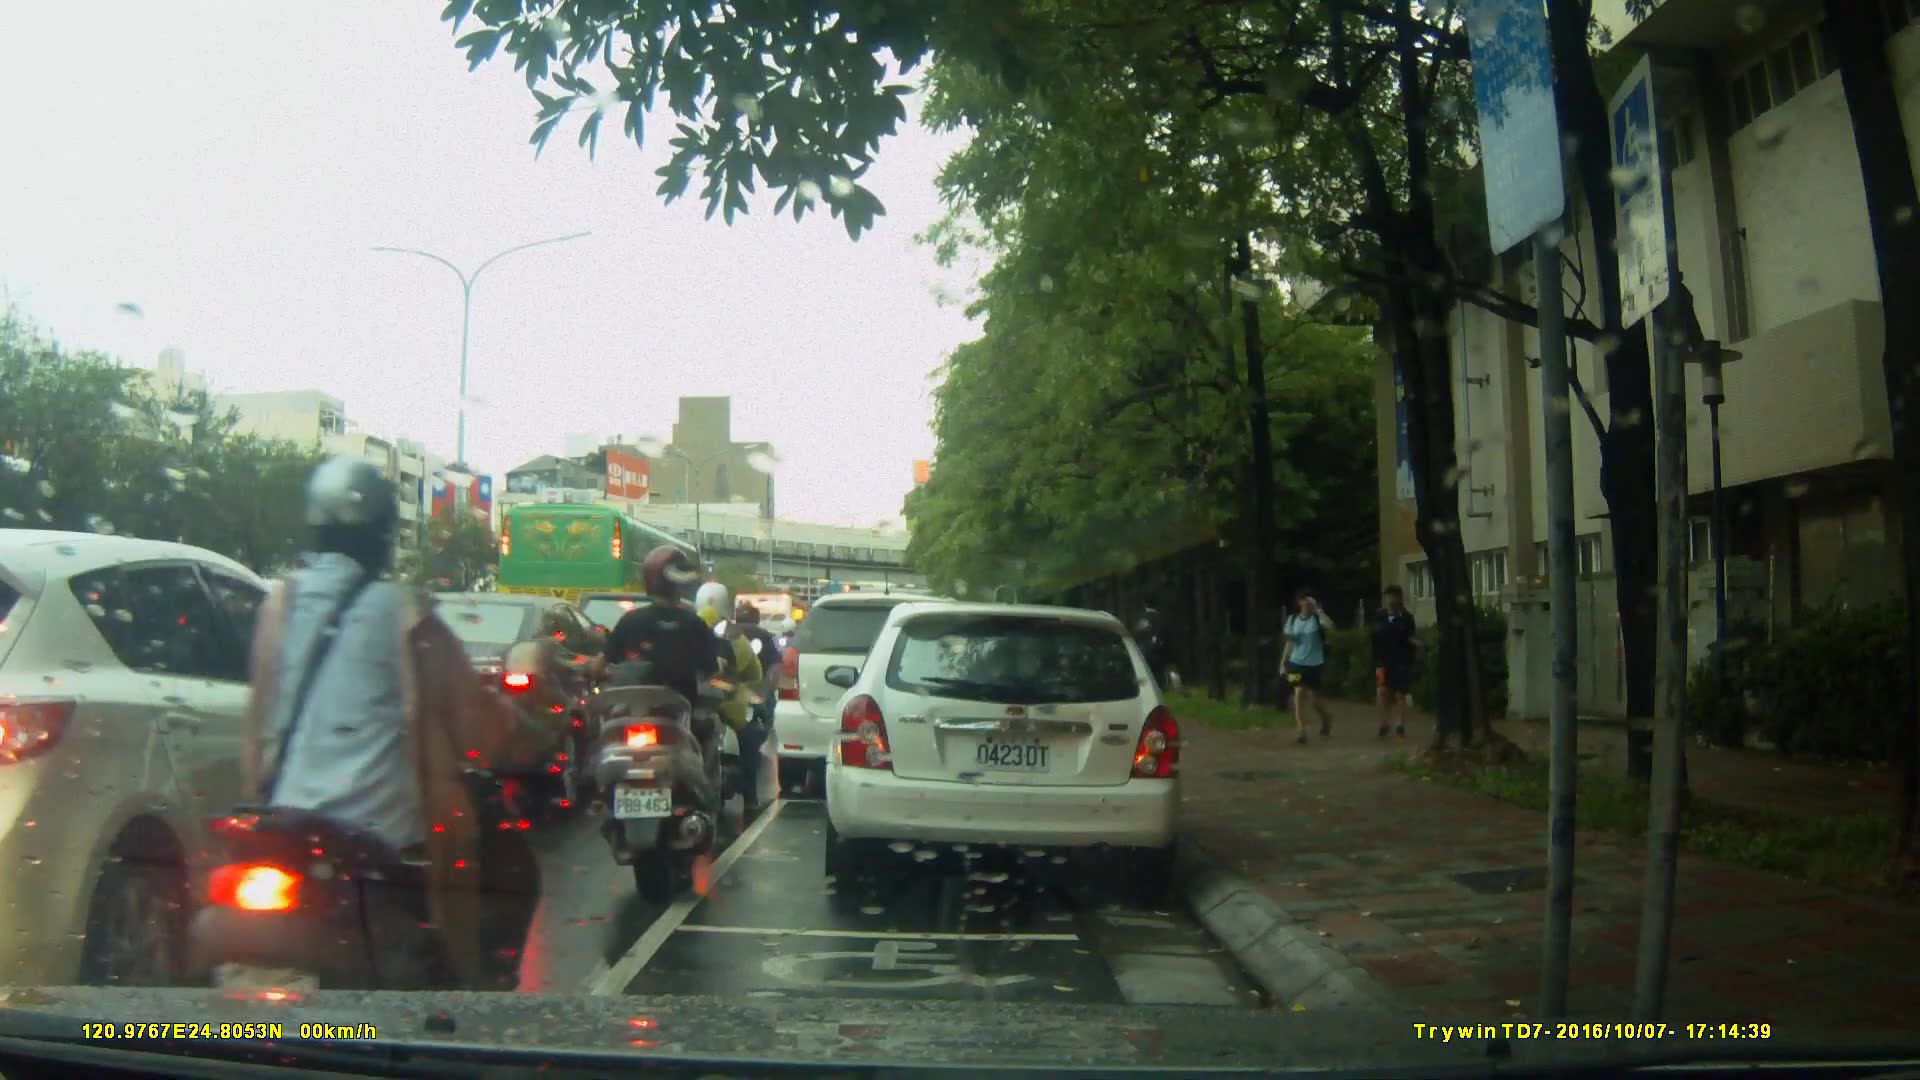pedestrian: (1266, 584, 1353, 749), (1366, 578, 1424, 750), (1128, 594, 1175, 741)
rider: (184, 455, 556, 1061), (595, 547, 726, 889), (681, 577, 767, 812), (767, 617, 812, 714)
vehicle: (1, 529, 445, 986), (831, 592, 1196, 897), (312, 590, 646, 807), (770, 592, 999, 801), (495, 501, 707, 638)
